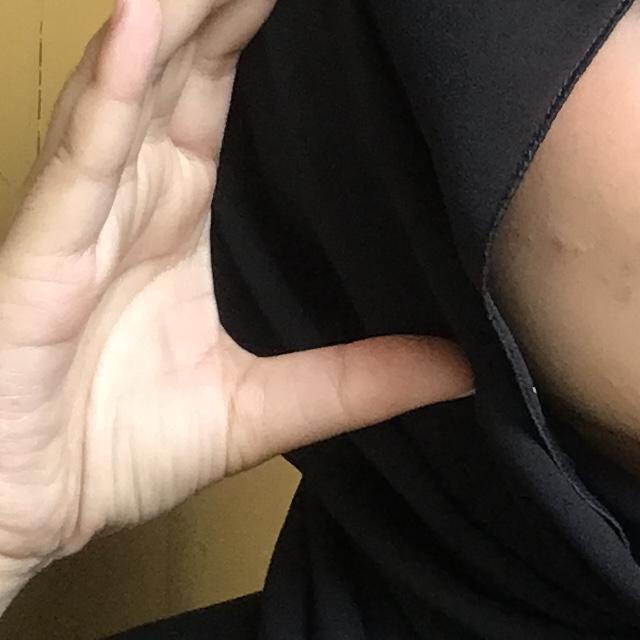mendengar: (0, 0, 530, 606)
